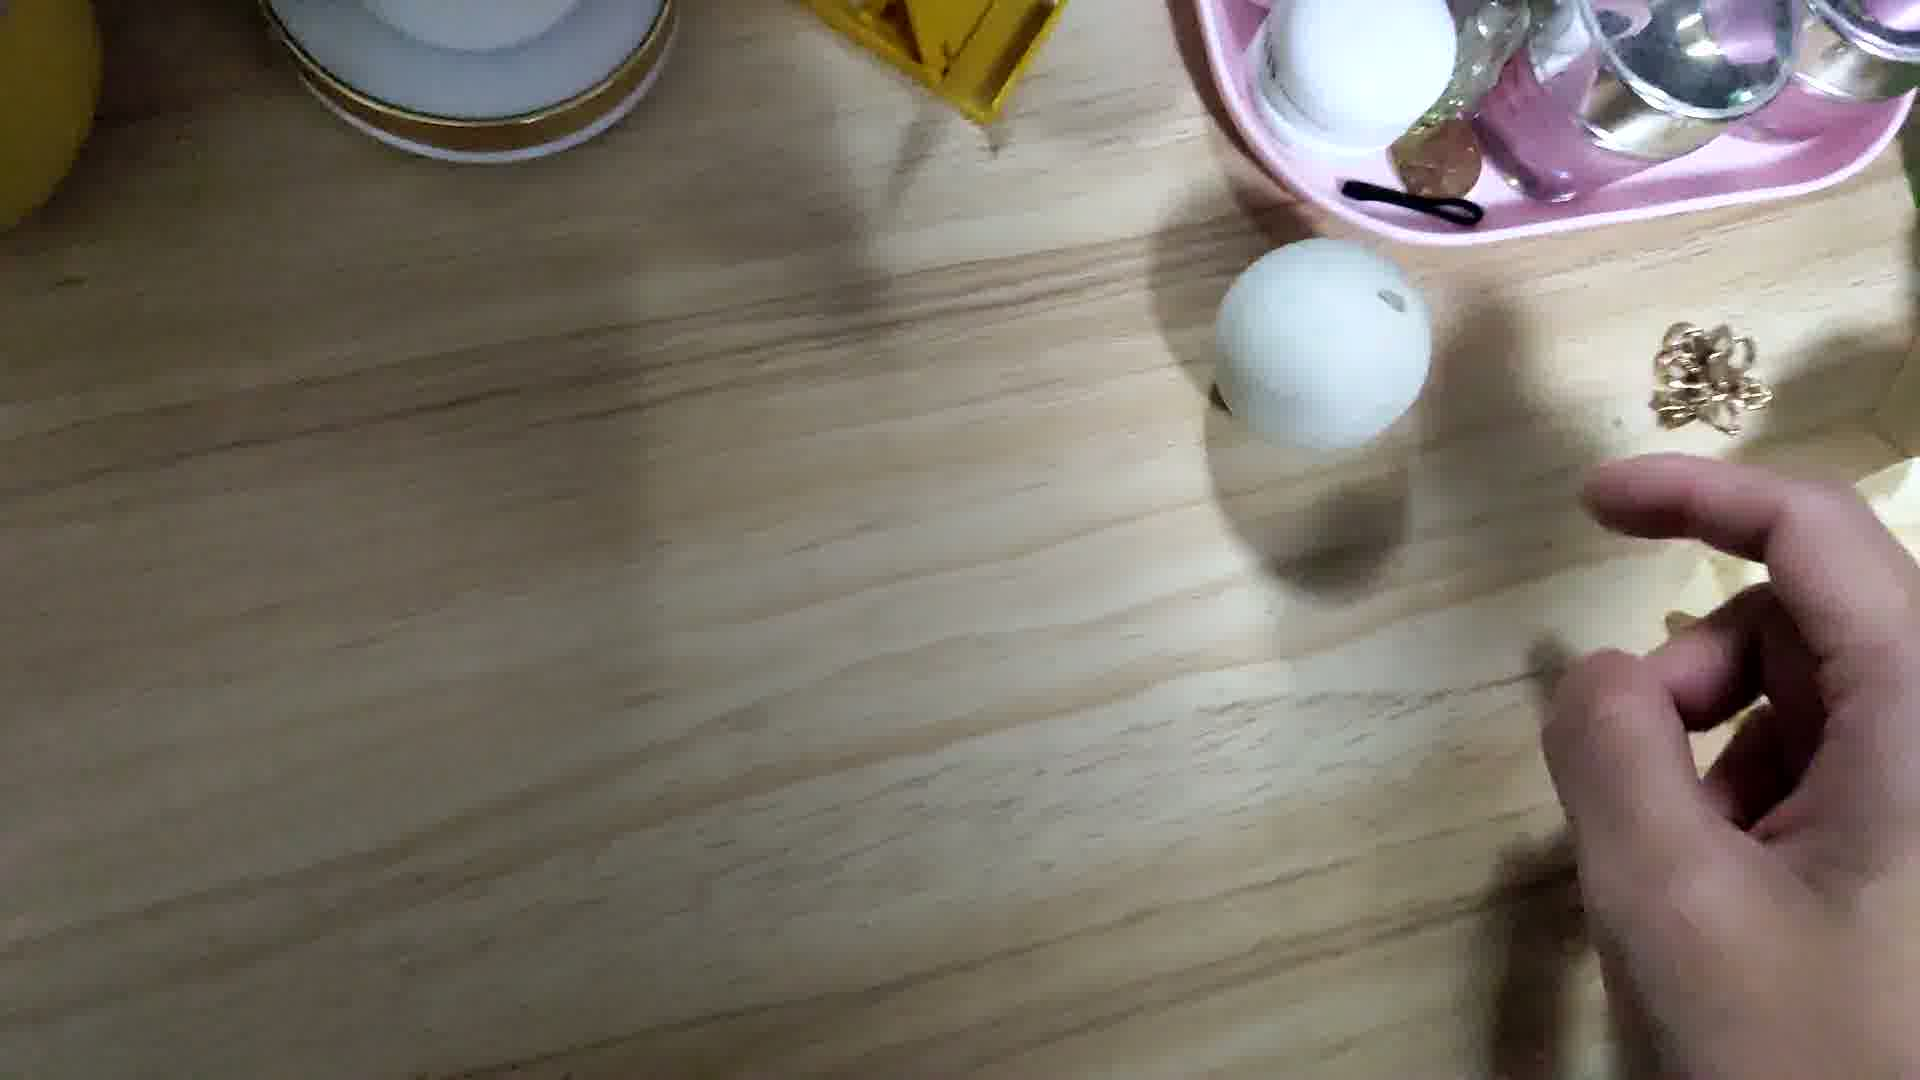Ball: (1215, 240, 1429, 454)
